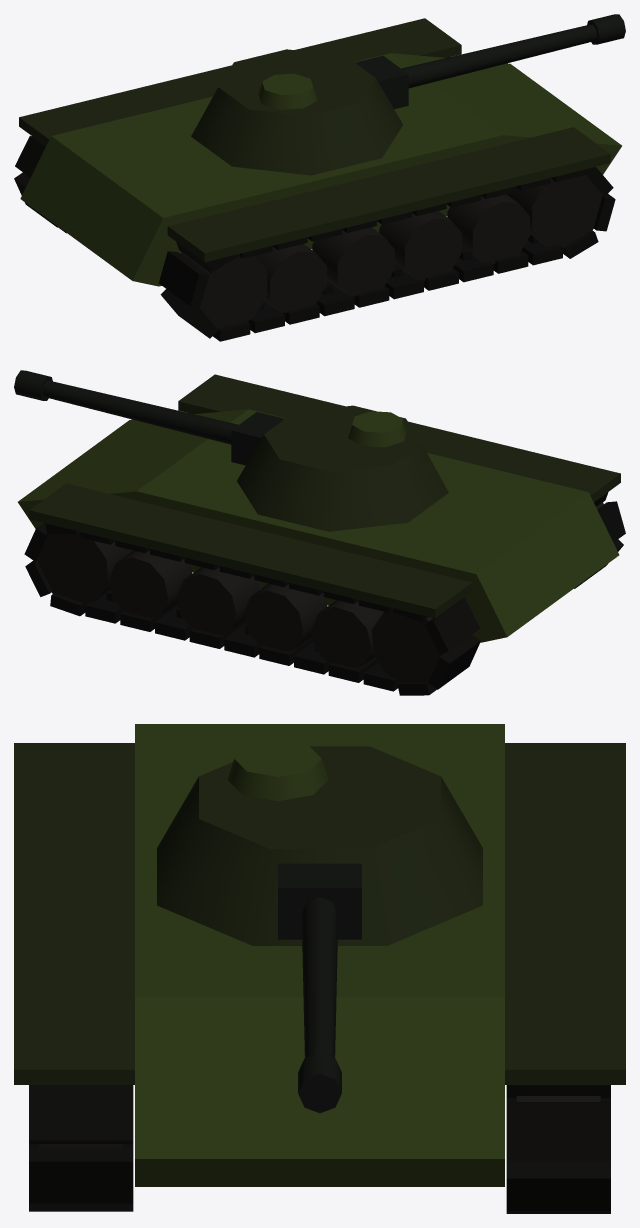
The model's file is low-poly-tank.obj.
3 renders of one model, top to bottom at view 1: azimuth 30°, elevation 25°; view 2: azimuth 150°, elevation 25°; view 3: azimuth 270°, elevation 25°, orthographic. The views are drawn at different scales.
Parts seen in each view (by area): view 1: hull, guard_right, turret_body, guard_left, track_right_sprocket_front, track_right_roadwheel_2, track_right_roadwheel_4, track_right_roadwheel_3, barrel, track_right_sprocket_rear, track_right_roadwheel_1, hatch (+18 smaller); view 2: hull, guard_left, turret_body, guard_right, track_left_sprocket_front, track_left_roadwheel_2, track_left_roadwheel_4, track_left_roadwheel_3, barrel, track_left_sprocket_rear, track_left_roadwheel_1, hatch (+18 smaller); view 3: hull, turret_body, guard_left, guard_right, track_right_link_12, track_left_link_11, barrel, track_right_link_11, track_left_link_10, mantlet, hatch, muzzle (+3 smaller).
Boxes of the visible parts, box(x1,y1,x2,y2) form: hull: box(20, 53, 621, 286); guard_right: box(167, 127, 610, 262); turret_body: box(191, 49, 402, 175); guard_left: box(19, 18, 461, 145); track_right_sprocket_front: box(507, 175, 602, 247); track_right_roadwheel_2: box(312, 227, 394, 296); track_right_roadwheel_4: box(447, 194, 529, 263); track_right_roadwheel_3: box(379, 211, 461, 280); barrel: box(401, 24, 597, 88); track_right_sprocket_rear: box(181, 252, 267, 328); track_right_roadwheel_1: box(255, 244, 326, 312); hatch: box(258, 73, 317, 109); hull: box(18, 409, 619, 642); guard_left: box(29, 483, 471, 618); turret_body: box(237, 405, 448, 531); guard_right: box(178, 374, 620, 502); track_left_sprocket_front: box(37, 532, 132, 603); track_left_roadwheel_2: box(243, 583, 327, 651); track_left_roadwheel_4: box(108, 550, 192, 618); track_left_roadwheel_3: box(176, 567, 260, 635); barrel: box(42, 380, 238, 444); track_left_sprocket_rear: box(371, 610, 445, 681); track_left_roadwheel_1: box(311, 600, 383, 668); hatch: box(348, 411, 406, 447); hull: box(135, 724, 504, 1186); turret_body: box(157, 746, 482, 945); guard_left: box(505, 743, 625, 1084); guard_right: box(14, 743, 134, 1084); track_right_link_12: box(29, 1085, 133, 1144); track_left_link_11: box(506, 1101, 610, 1159); barrel: box(301, 897, 338, 1105); track_right_link_11: box(29, 1148, 133, 1203); track_left_link_10: box(506, 1162, 610, 1210); mantlet: box(278, 863, 361, 939); hatch: box(227, 740, 328, 800); muzzle: box(298, 1052, 341, 1113).
Size of the model in its own units: 6.15 by 1.84 by 3.64.
